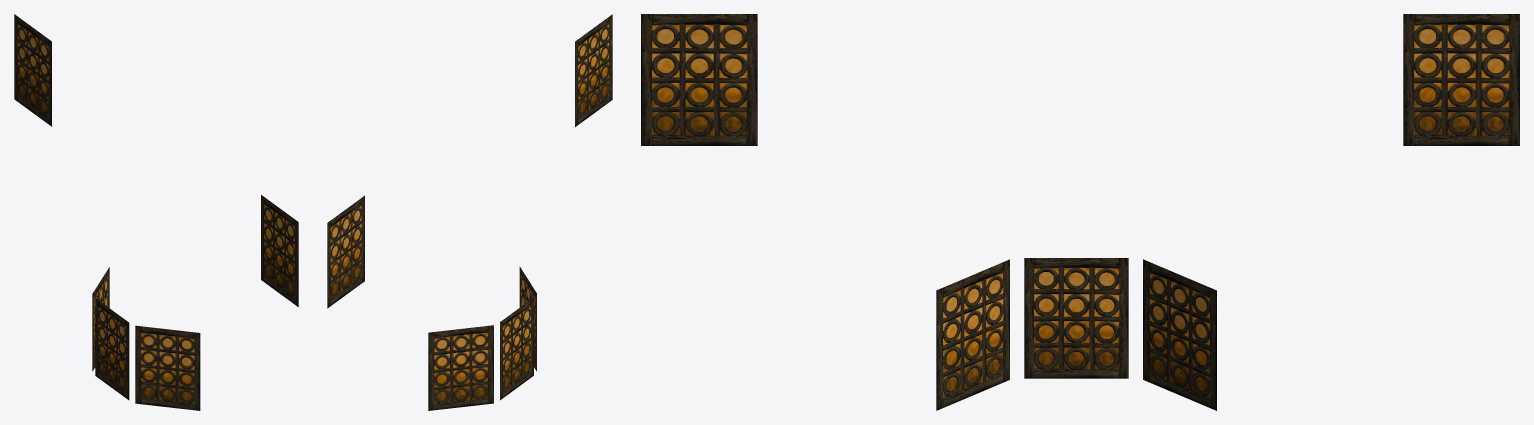
Rendered from LAKETOWN_EXTERIOR_PS_LT_WINDOWS22936.fbx.
3 views of the same model, side by side, from view 1: azimuth 30°, elevation 25°; view 2: azimuth 150°, elevation 25°; view 3: azimuth 270°, elevation 25° (orthographic). The views are drawn at different scales.
Parts seen in each view (by area): view 1: LAKETOWN_EXTERIOR_PS_LT_WINDOWS22936; view 2: LAKETOWN_EXTERIOR_PS_LT_WINDOWS22936; view 3: LAKETOWN_EXTERIOR_PS_LT_WINDOWS22936.
Part boxes in pixels (x1,y1,x2,y2): LAKETOWN_EXTERIOR_PS_LT_WINDOWS22936: (14, 14, 298, 410); LAKETOWN_EXTERIOR_PS_LT_WINDOWS22936: (327, 14, 612, 410); LAKETOWN_EXTERIOR_PS_LT_WINDOWS22936: (641, 14, 1519, 410).
Size of the model in its own units: 8167 by 44288 by 88391.
Materials: 1 (1 with a texture image).
